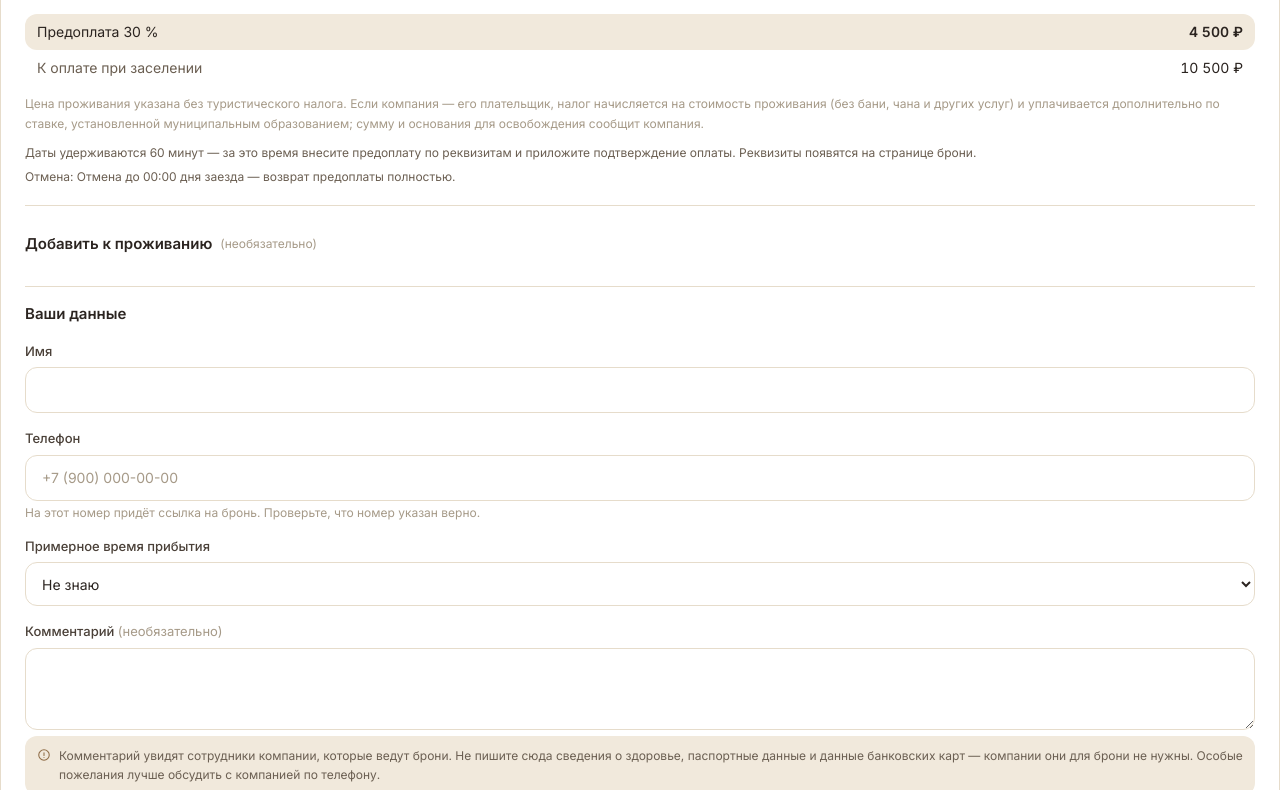
BookingPanel › a 400 text lands under its field
The width and height of the screenshot is (1280, 790).
(page scrolled)
Type "Анна" into the field labelled "Имя".
click(640, 390); type("Анна")  # box [25, 367, 1255, 413]
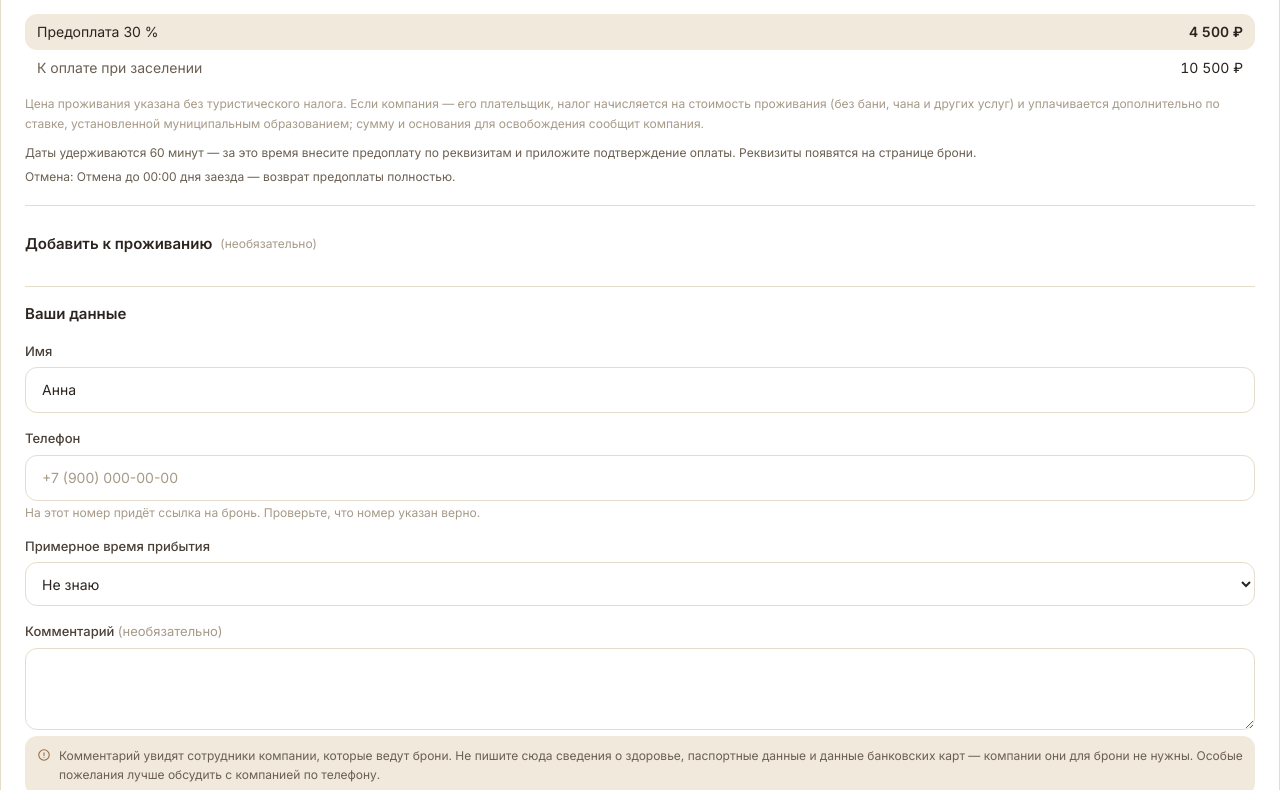
Type "9001234567" into the field labelled "Телефон".
click(640, 478); type("9001234567")  # box [25, 454, 1255, 500]
(page scrolled)
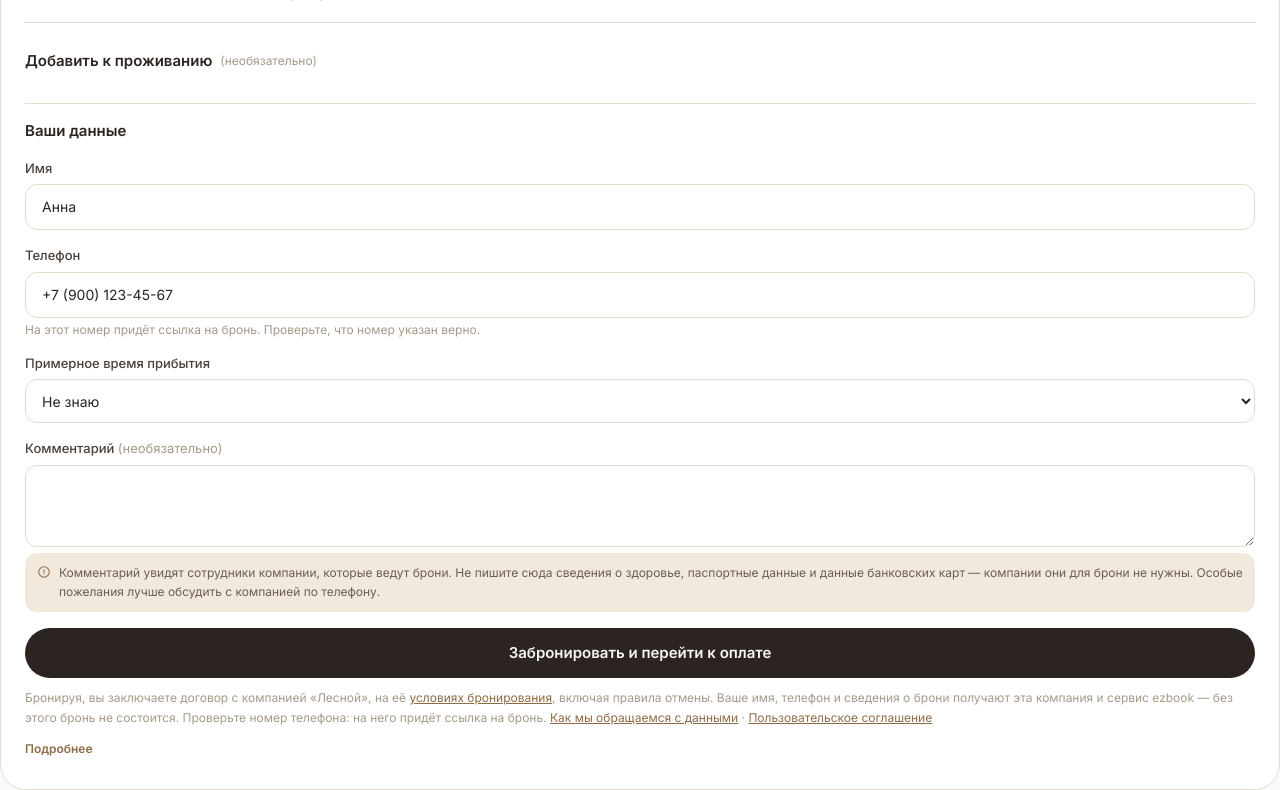
Click the button "Забронировать и перейти к оплате".
click(640, 653)  # box [25, 628, 1255, 678]
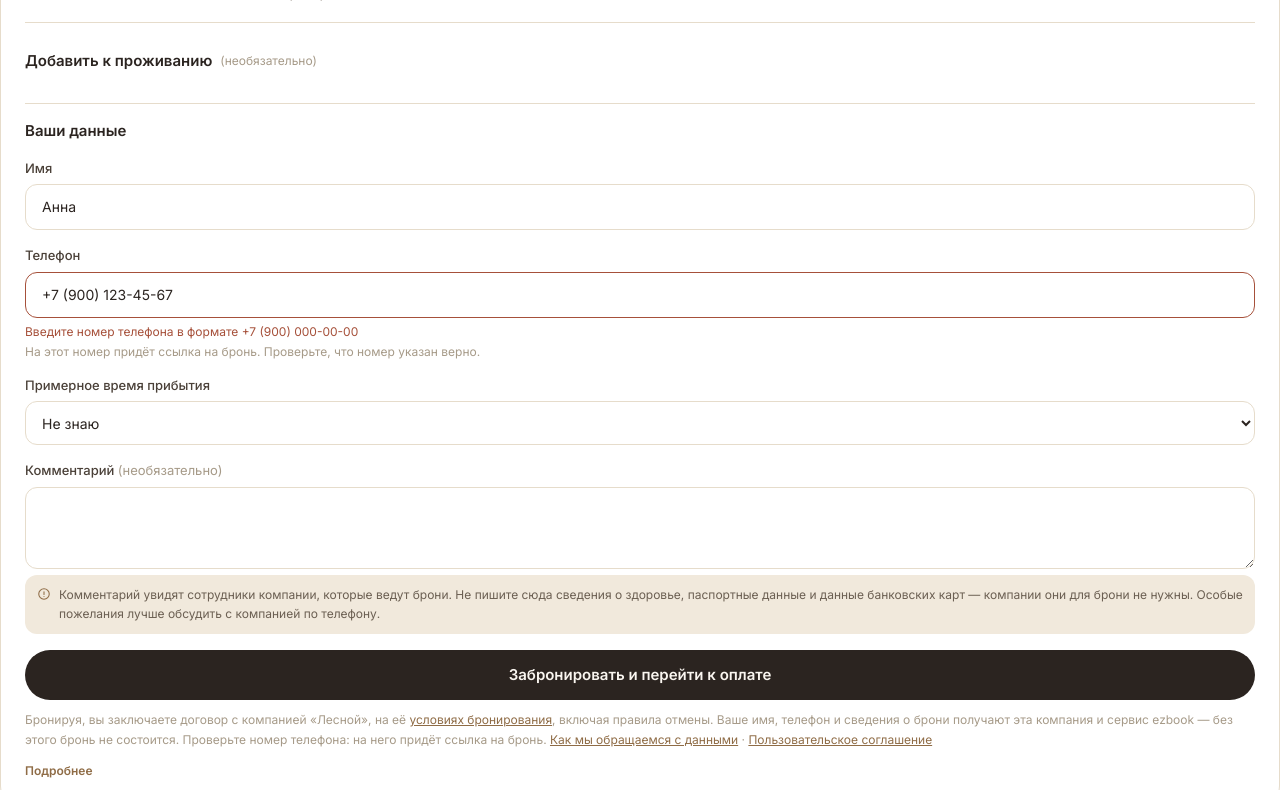
Now the text "Введите номер телефона в формате +7 (900) 000-00-00" is shown, box [25, 324, 358, 338]
